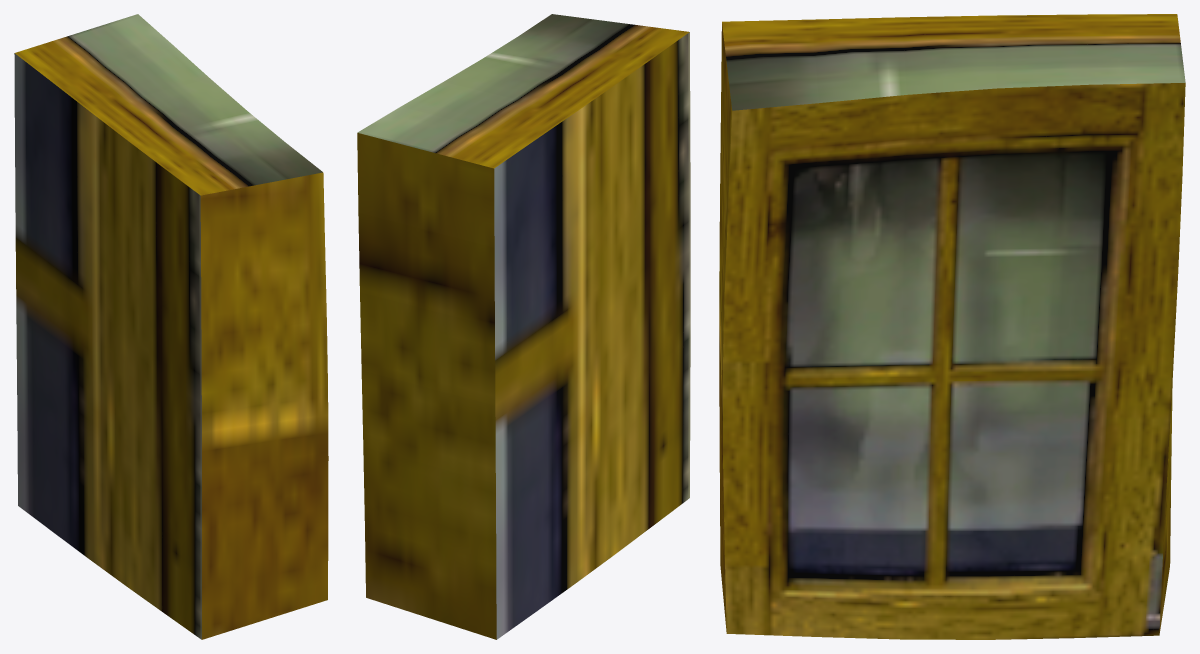
The model's file is Window twst .fbx.
The picture shows the model from 3 angles, left to right: view 1: azimuth 30°, elevation 25°; view 2: azimuth 150°, elevation 25°; view 3: azimuth 270°, elevation 25°; orthographic projection. The views are drawn at different scales.
Parts seen in each view (by area): view 1: окно.018; view 2: окно.018; view 3: окно.018.
Part boxes in pixels (left/top/right/bottom): окно.018: left=14, top=14, right=328, bottom=639; окно.018: left=357, top=14, right=690, bottom=639; окно.018: left=719, top=14, right=1185, bottom=639.
Bounding box in the file's own units: 68.52 × 229 × 173.
